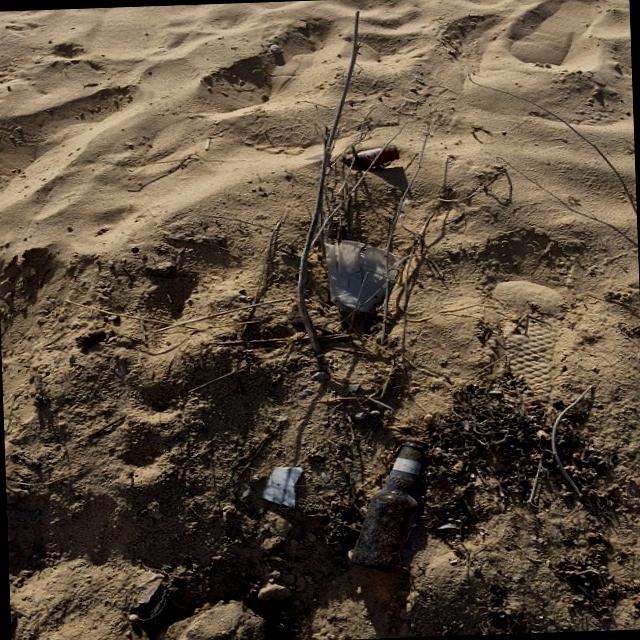Recycle: (262, 464, 306, 512)
Trash: (338, 441, 450, 576), (330, 236, 416, 316), (341, 146, 417, 170)
